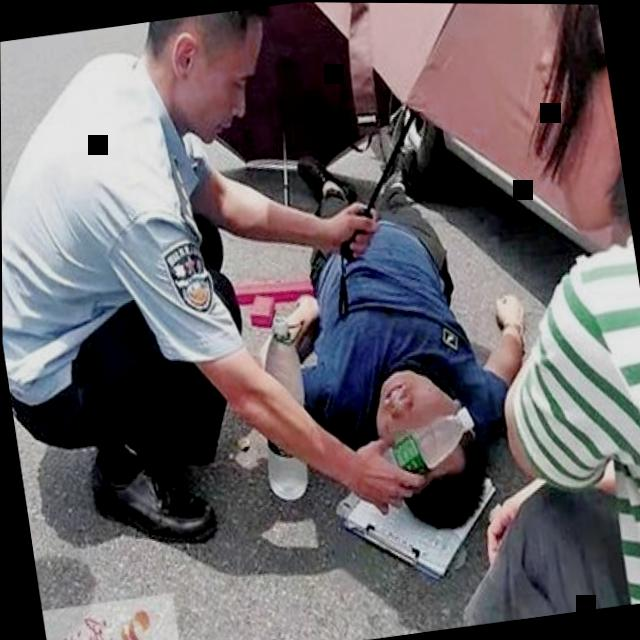Fall-Detected: (240, 89, 550, 562)
